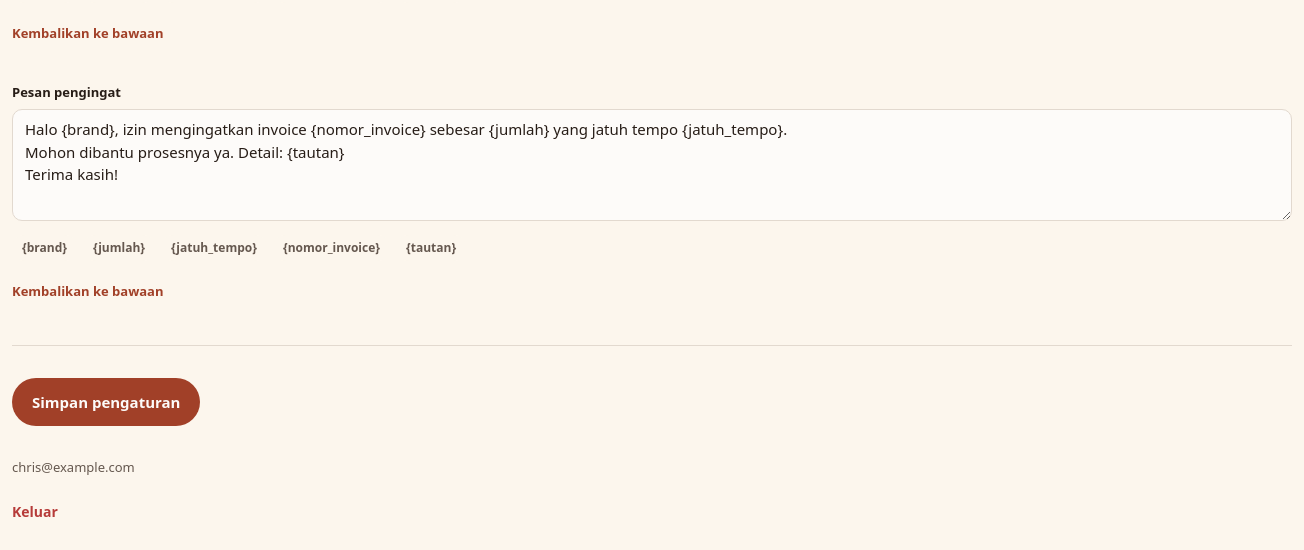
it: SettingsForm — sign out › requires an explicit confirm before exposing the sign-out link
(page scrolled)
Expected: the link "Ya, keluar" is not shown
Step 1. Click the button "Keluar" → (35, 512), box [12,490,58,534]
(page scrolled)
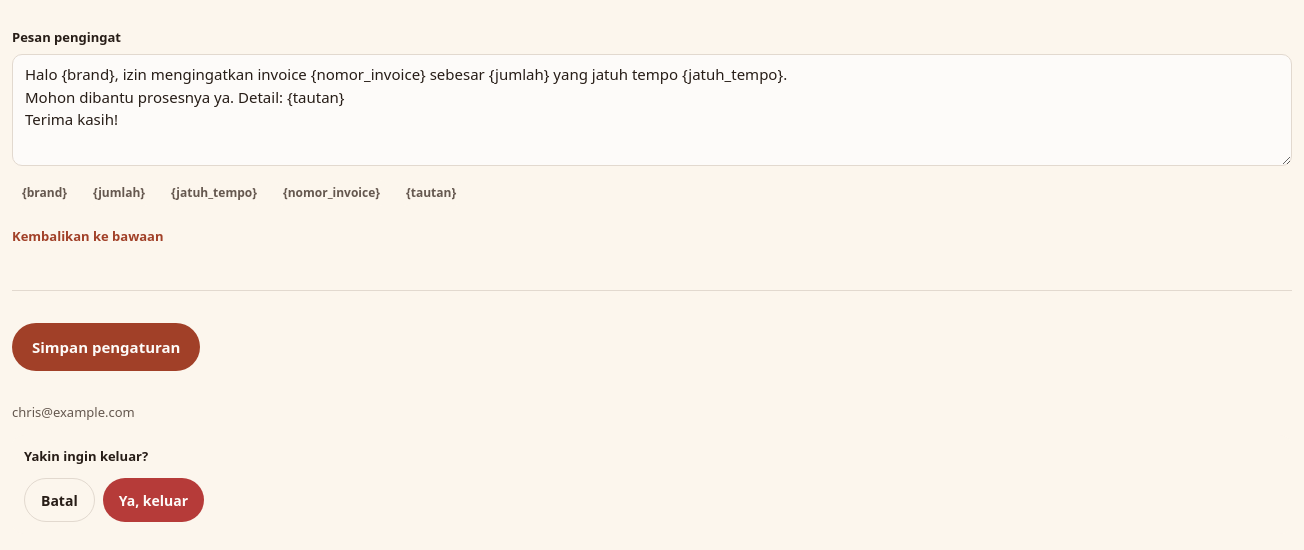
Result: the text "Yakin ingin keluar?" is shown at [24,447,148,465]
Step 2. Click the button "Batal" → (59, 500), box [24,478,95,522]
(page scrolled)
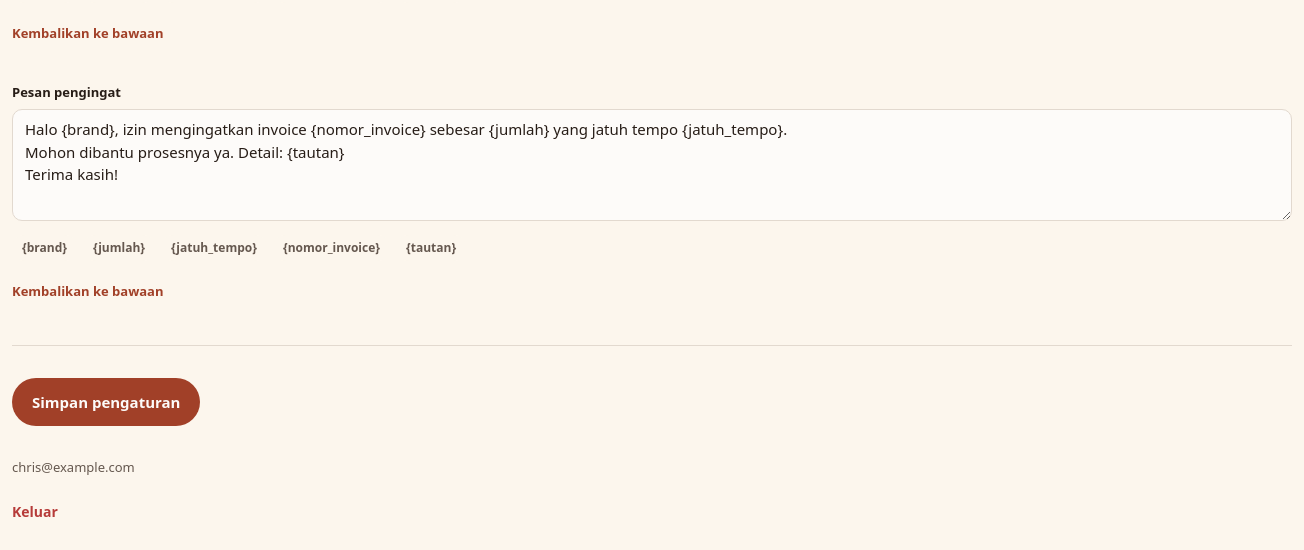
Result: the link "Ya, keluar" is gone
